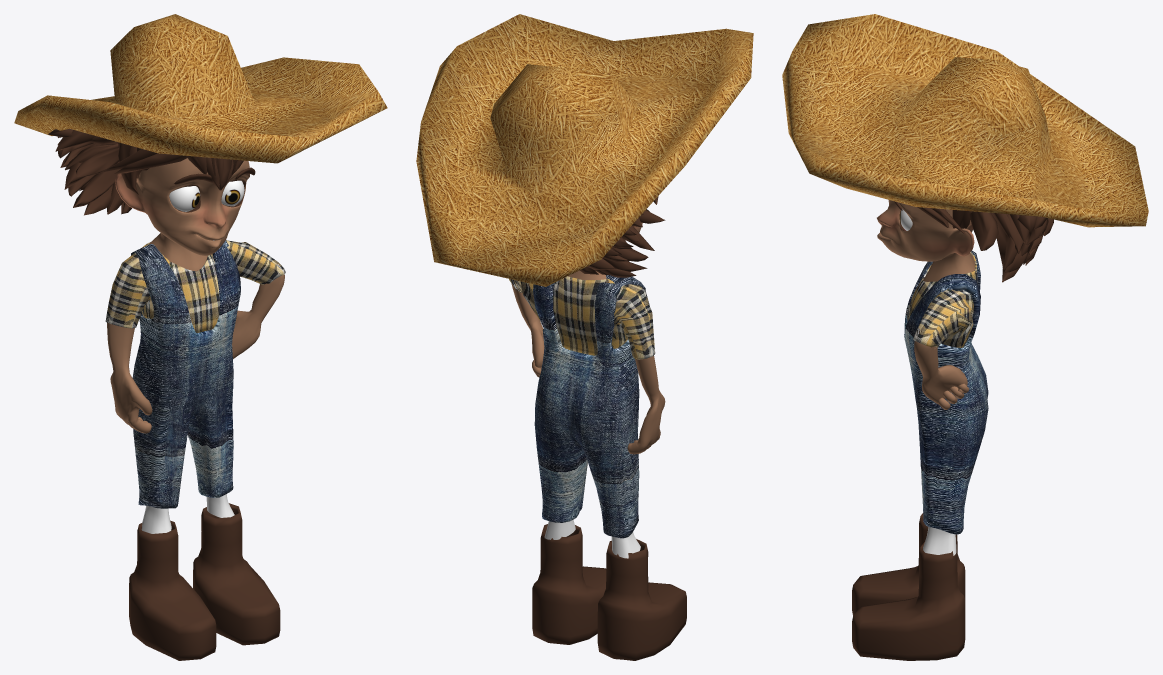
Rendered from miner.glb.
3 views of the same model, side by side, from view 1: azimuth 30°, elevation 25°; view 2: azimuth 150°, elevation 25°; view 3: azimuth 270°, elevation 25° (orthographic). The views are drawn at different scales.
Parts seen in each view (by area): view 1: Plane.001, cabeça.011, Cube.012, cabeça.009, Sphere.008, cabeça.010, Sphere.007; view 2: Plane.001, cabeça.011, Cube.012, cabeça.010, cabeça.009, Sphere.008; view 3: Plane.001, cabeça.011, Cube.012, cabeça.009, Sphere.008, cabeça.010.
Part boxes in pixels (x1,y1,x2,y2): Plane.001: (14,14,387,163); cabeça.011: (131,240,240,508); Cube.012: (129,503,280,660); cabeça.009: (107,158,284,533); Sphere.008: (48,128,243,215); cabeça.010: (105,240,285,332); Sphere.007: (169,186,200,211); Plane.001: (416,14,753,286); cabeça.011: (533,275,645,538); Cube.012: (532,524,686,660); cabeça.010: (509,276,655,359); cabeça.009: (511,222,665,558); Sphere.008: (580,196,665,277); Plane.001: (782,14,1148,227); cabeça.011: (904,250,988,534); Cube.012: (852,513,965,660); cabeça.009: (877,200,975,555); Sphere.008: (917,207,1053,282); cabeça.010: (907,252,977,347).
Size of the model in its own units: 0.7742 by 1.52 by 0.8705.
Materials: 10 (5 with a texture image).
